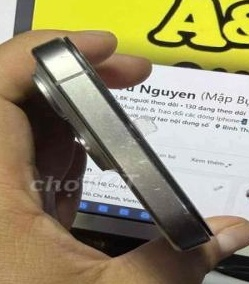scratch: (120, 159, 195, 240), (37, 40, 110, 84), (96, 113, 145, 162)
